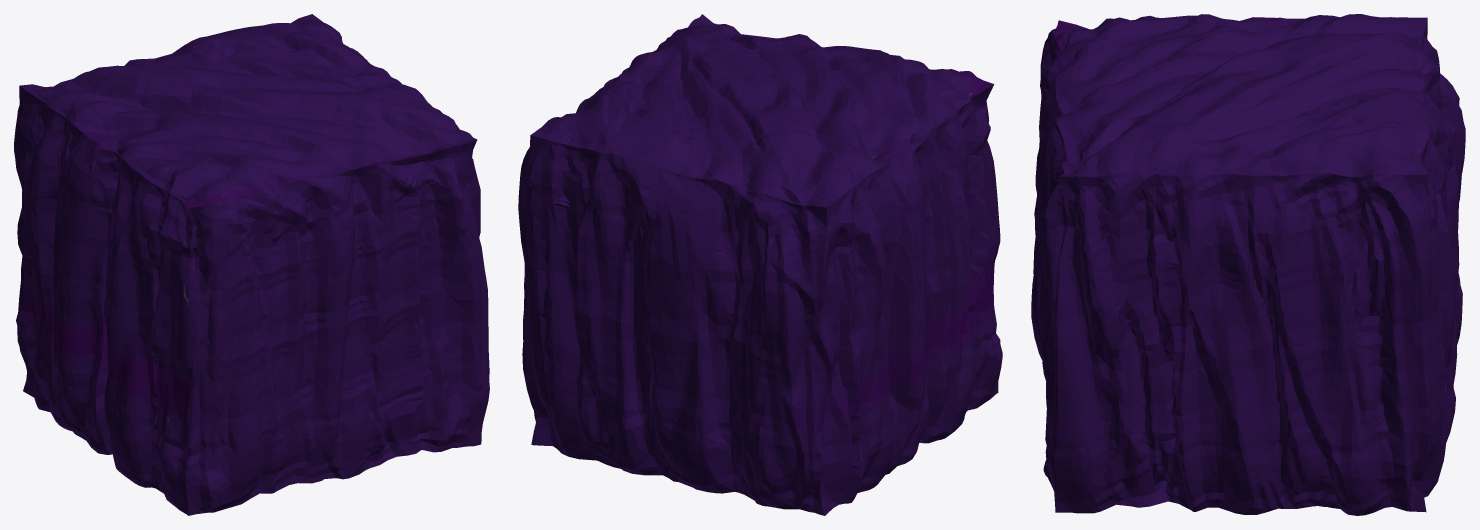
The model's file is ParasiteWallV2.fbx.
3 renders of one model, left to right at view 1: azimuth 30°, elevation 25°; view 2: azimuth 150°, elevation 25°; view 3: azimuth 270°, elevation 25°, orthographic. The views are drawn at different scales.
Parts seen in each view (by area): view 1: Cube; view 2: Cube; view 3: Cube.
Boxes of the visible parts, x1,y1,x2,y2 form: Cube: [14, 14, 489, 515]; Cube: [518, 14, 1002, 515]; Cube: [1031, 14, 1465, 515].
Size of the model in its own units: 235 by 218 by 233.
